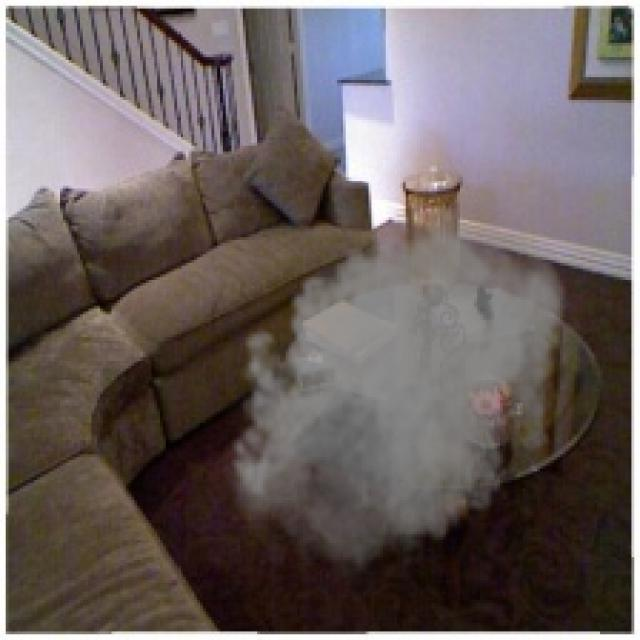smoke: (220, 203, 571, 591)
